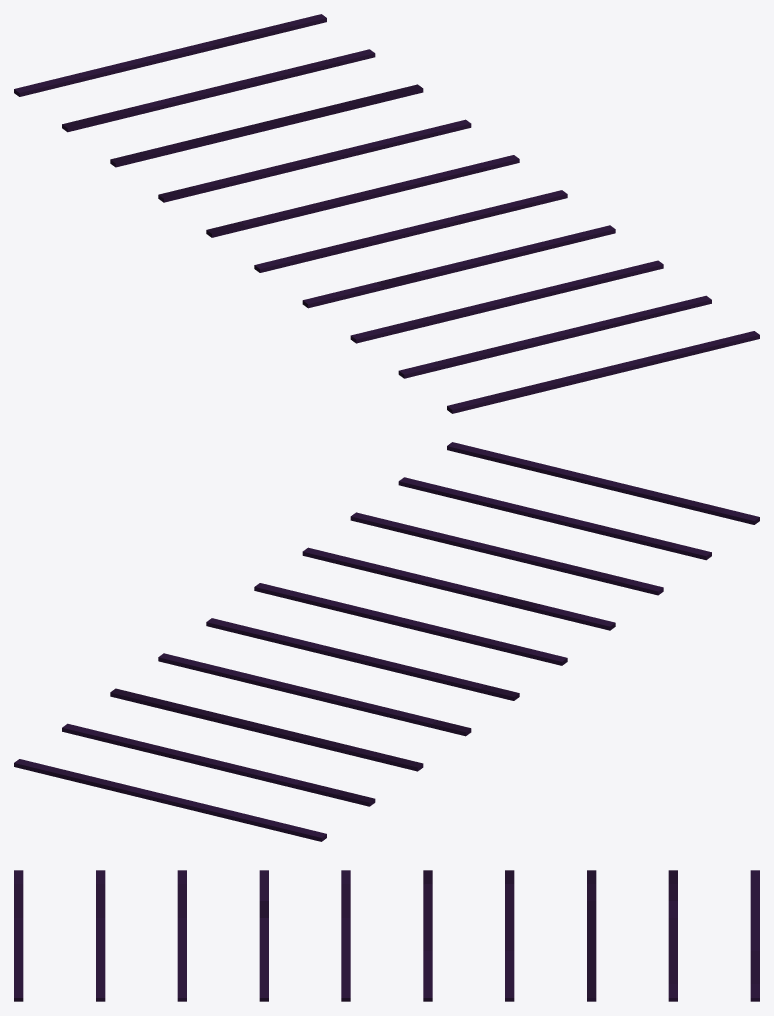
Rendered from checkout_belt.fbx.
3 views of the same model, one above another, from view 1: azimuth 30°, elevation 25°; view 2: azimuth 150°, elevation 25°; view 3: azimuth 270°, elevation 25° (orthographic). The views are drawn at different scales.
Visible parts, largest first — view 1: checkout_belt; view 2: checkout_belt; view 3: checkout_belt.
Part boxes in pixels (<box>): checkout_belt: <box>14,14,759,413</box>; checkout_belt: <box>14,442,759,841</box>; checkout_belt: <box>14,870,759,1001</box>.
Size of the model in its own units: 48 by 0.6 by 119.
